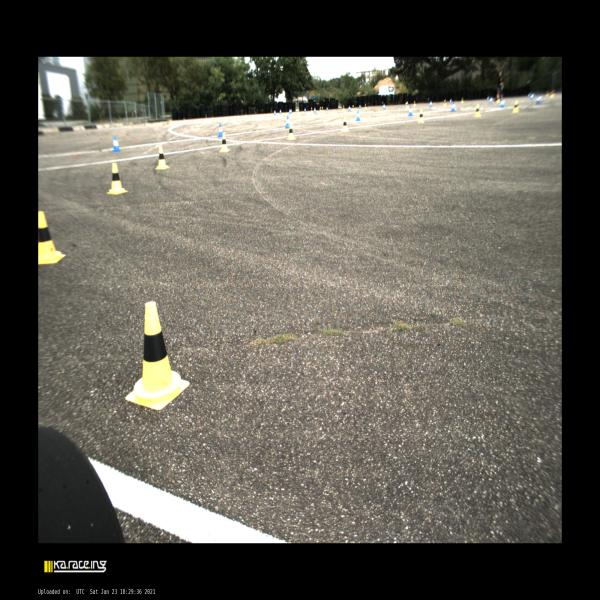blue_cone: (112, 135, 121, 152), (355, 110, 361, 121), (285, 116, 290, 128), (218, 123, 222, 137), (408, 105, 413, 116), (536, 95, 542, 104), (500, 98, 505, 108), (451, 102, 455, 112), (530, 93, 534, 100), (429, 101, 433, 107), (383, 103, 386, 110), (348, 106, 351, 111), (279, 109, 282, 114), (314, 107, 316, 113), (490, 97, 492, 103), (274, 110, 276, 115), (289, 109, 291, 114), (304, 108, 306, 112), (359, 104, 361, 108), (405, 102, 407, 106), (450, 99, 452, 103), (487, 96, 489, 100), (528, 93, 530, 97), (326, 107, 328, 110), (291, 108, 292, 114)
yellow_cone: (126, 302, 190, 410), (39, 211, 66, 264), (108, 163, 128, 194), (156, 146, 169, 170), (219, 135, 230, 152), (287, 125, 296, 140), (341, 117, 350, 132), (474, 104, 481, 117), (418, 109, 424, 123), (513, 100, 519, 112), (550, 90, 554, 98), (496, 96, 500, 103), (443, 99, 446, 107), (342, 105, 345, 111), (406, 102, 409, 108), (461, 97, 464, 103), (546, 90, 549, 96), (413, 101, 416, 106), (321, 107, 324, 112), (319, 106, 321, 113), (365, 104, 367, 110), (501, 94, 503, 100), (310, 107, 312, 112), (352, 105, 354, 110)
